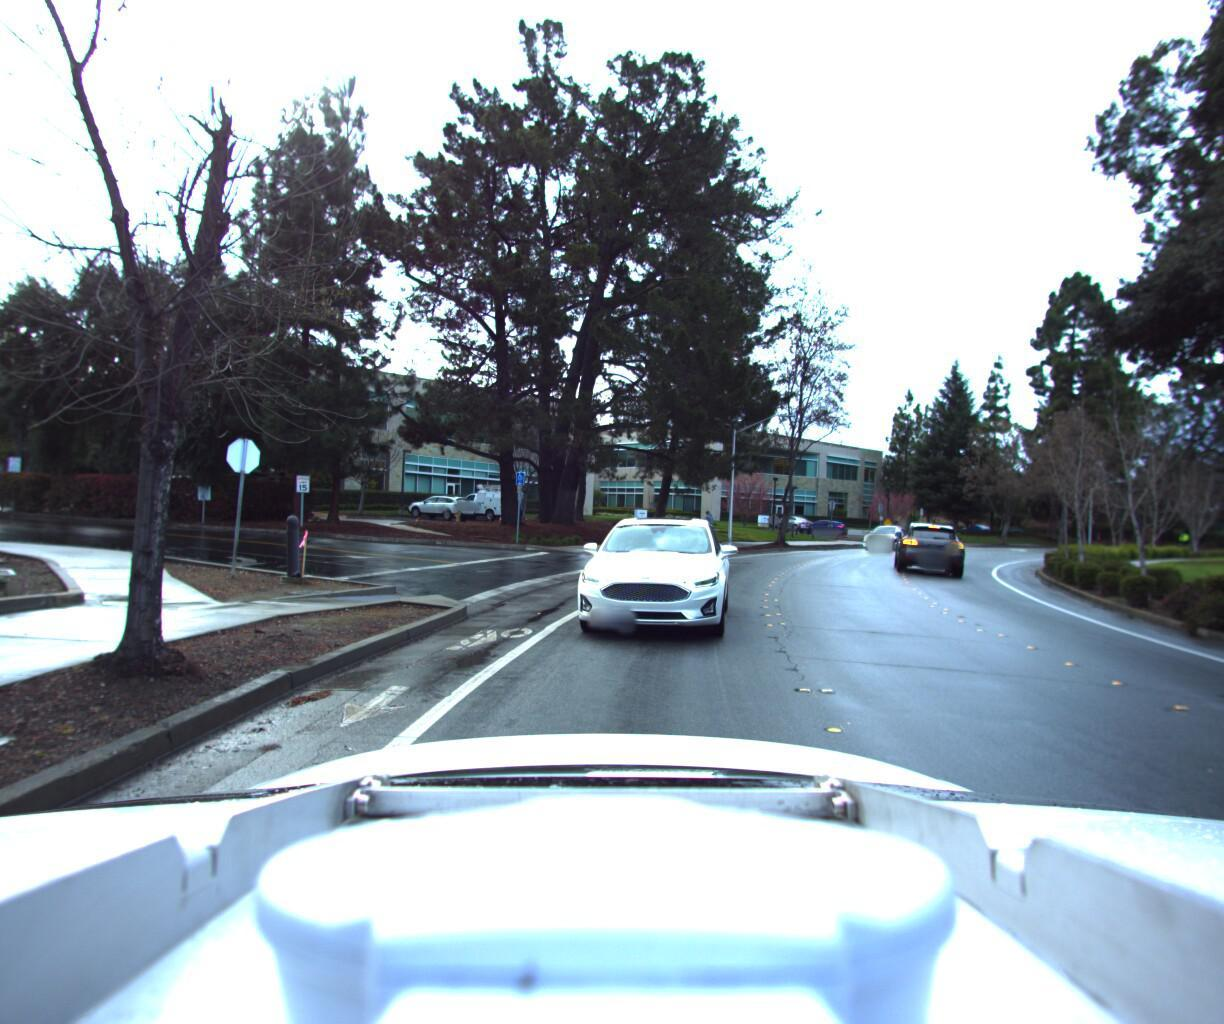car: (554, 514, 743, 661), (893, 523, 960, 576), (853, 524, 911, 553)
